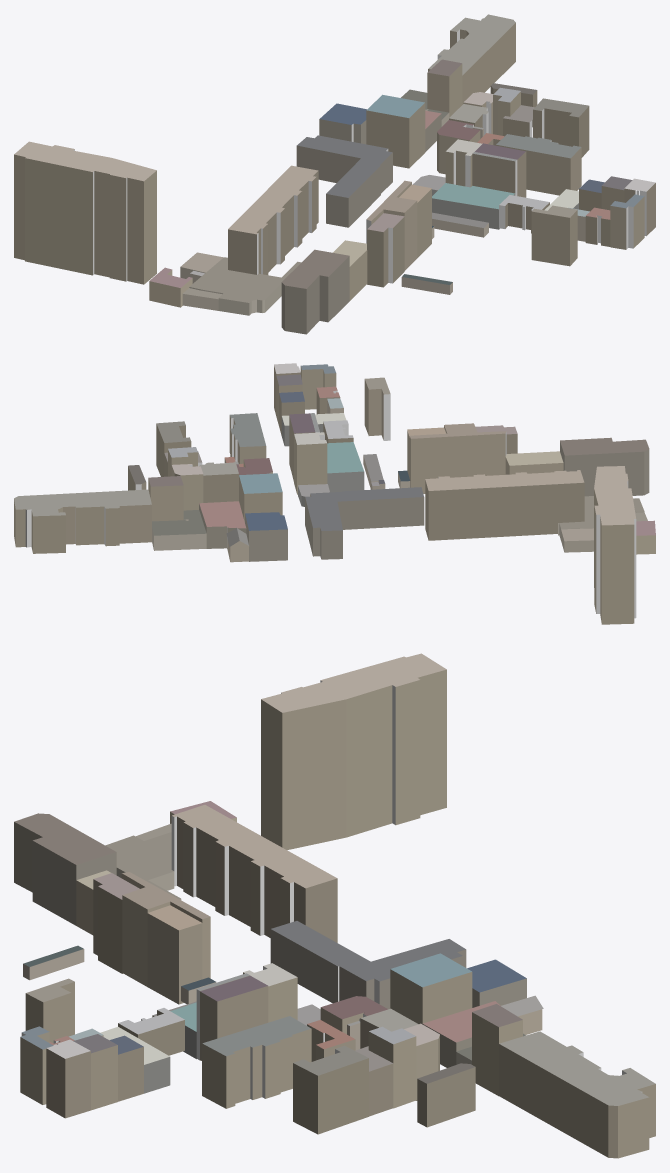
3 renders of one model, top to bottom at view 1: azimuth 30°, elevation 25°; view 2: azimuth 150°, elevation 25°; view 3: azimuth 270°, elevation 25°, orthographic. The views are drawn at different scales.
Parts seen in each view (by area): view 1: tuile; view 2: tuile; view 3: tuile.
Part boxes in pixels (box(x1,y1,x2,y2)): tuile: box(14, 14, 655, 334); tuile: box(14, 363, 655, 624); tuile: box(14, 653, 655, 1158).
Bounding box in the file's own units: 271 × 46.78 × 197.
